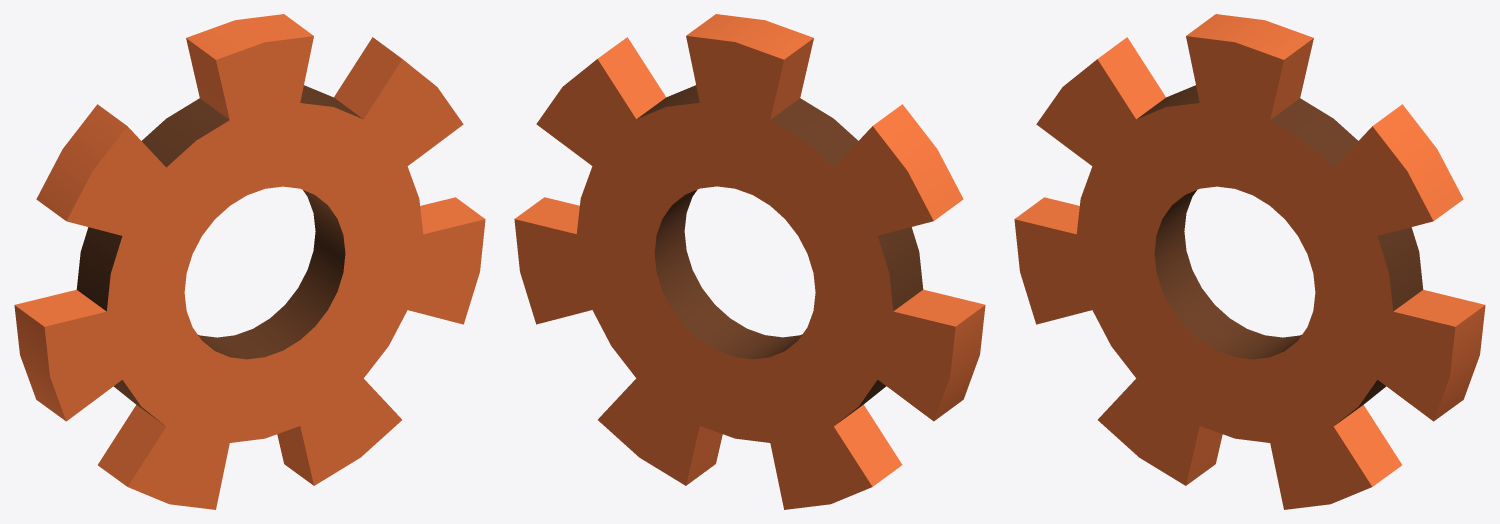
Rendered from gear.glb.
The picture shows the model from 3 angles, left to right: view 1: azimuth 30°, elevation 25°; view 2: azimuth 150°, elevation 25°; view 3: azimuth 330°, elevation 25°; orthographic projection.
Parts seen in each view (by area): view 1: Gear; view 2: Gear; view 3: Gear.
Boxes of the visible parts, x1,y1,x2,y2 form: Gear: (14, 14, 485, 509); Gear: (514, 14, 985, 509); Gear: (1014, 14, 1485, 509).
Size of the model in its own units: 1.7 by 1.68 by 0.2.
